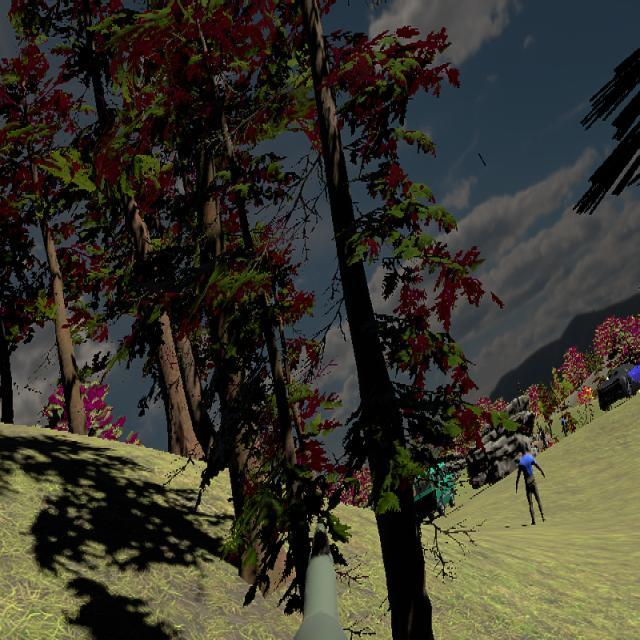Human: (516, 443, 546, 526)
car: (598, 361, 640, 411)
